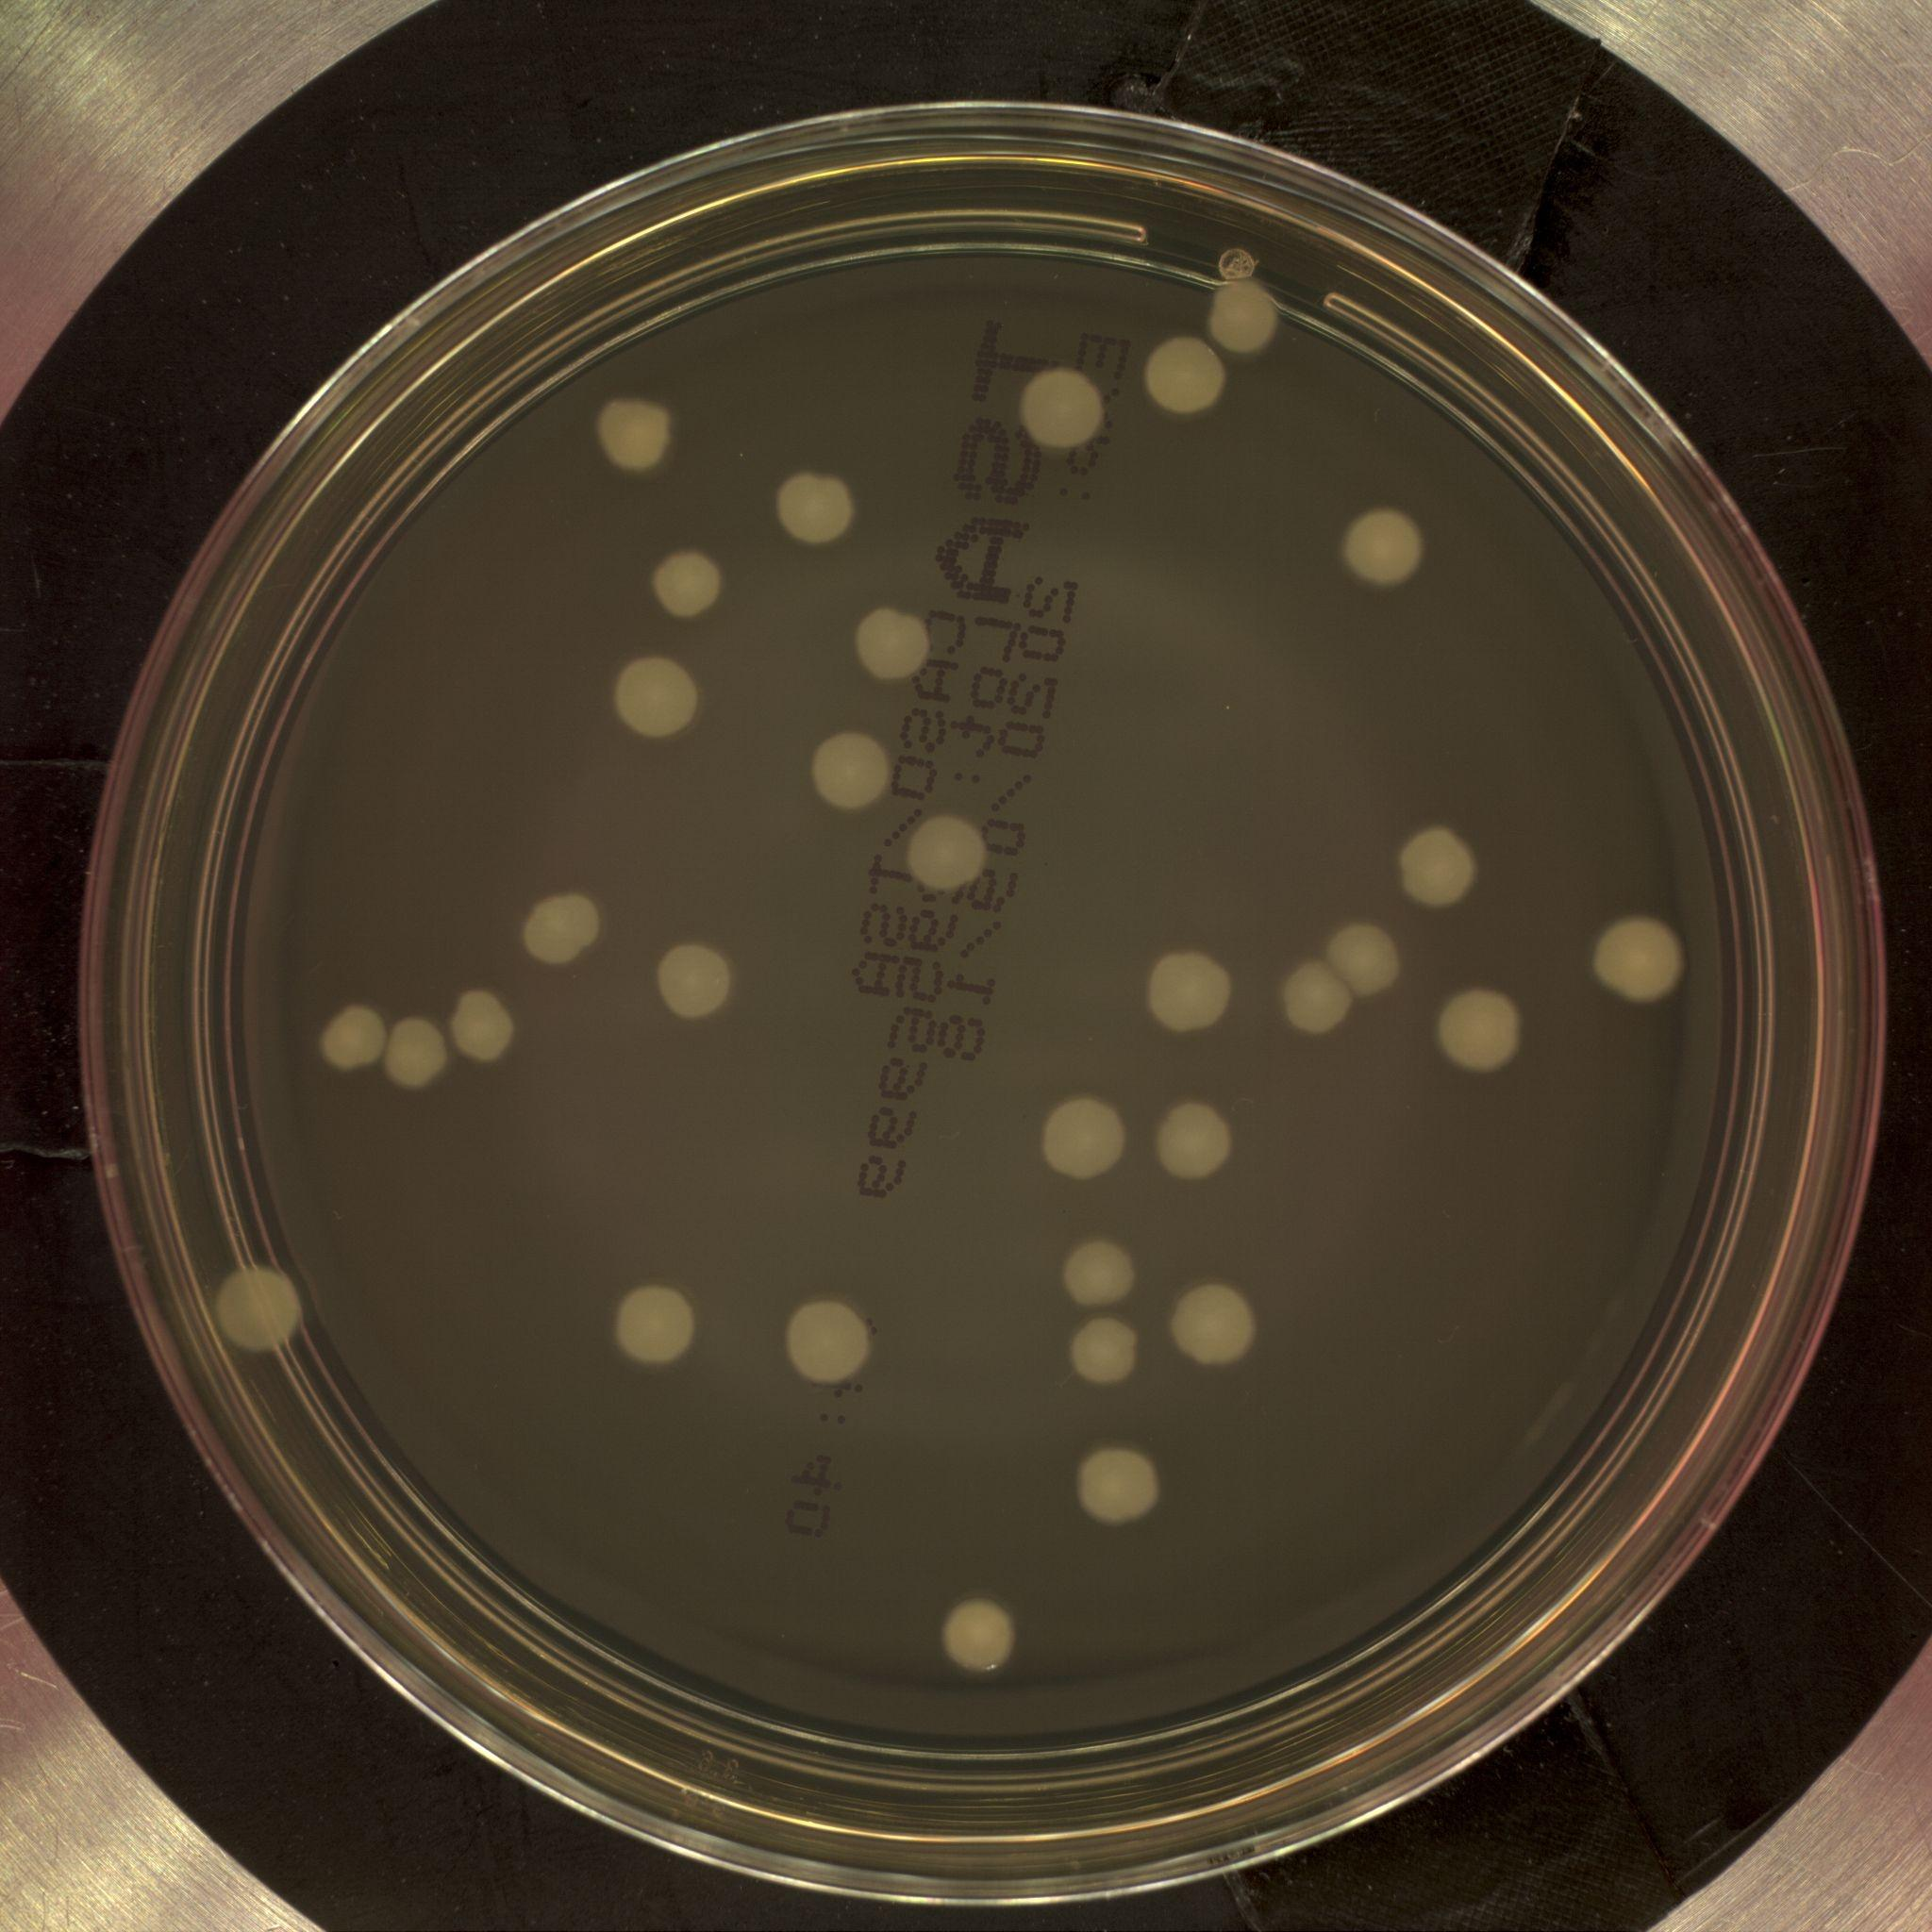e. coli: (1596, 911, 1684, 1007), (212, 1269, 308, 1355), (1145, 947, 1237, 1035), (614, 653, 699, 738), (1039, 1097, 1125, 1177), (814, 729, 893, 814), (1437, 984, 1520, 1063), (1401, 821, 1479, 906), (658, 941, 734, 1028), (616, 1283, 692, 1369), (1175, 1284, 1258, 1362), (1076, 1447, 1159, 1525), (855, 603, 939, 679), (789, 1302, 869, 1382), (906, 819, 991, 893), (1272, 955, 1345, 1042), (1345, 502, 1422, 580), (1145, 334, 1224, 410), (602, 396, 678, 474), (1159, 1104, 1235, 1180), (1329, 929, 1405, 1003), (1030, 370, 1102, 446), (777, 472, 855, 543), (529, 893, 605, 964), (1065, 1233, 1138, 1306), (382, 1017, 449, 1092), (1070, 1316, 1139, 1387), (945, 1601, 1019, 1667), (1208, 283, 1277, 352), (318, 1003, 389, 1070), (655, 550, 718, 621), (456, 991, 513, 1062)
